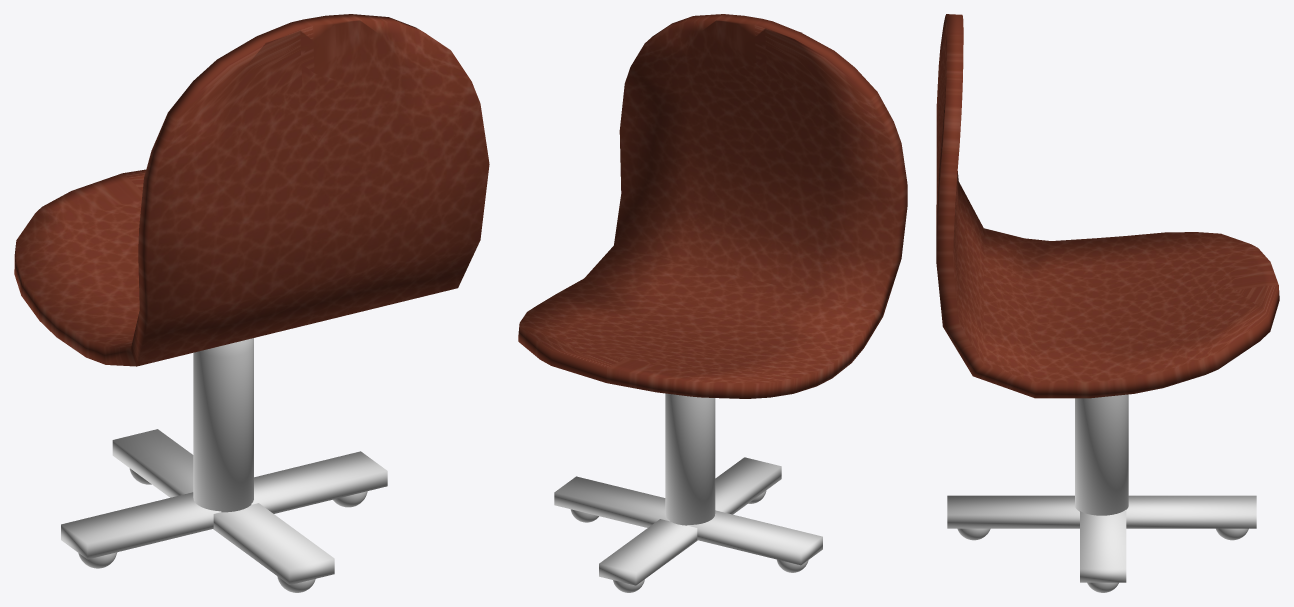
File: Office Chair.fbx
3 views of the same model, side by side, from view 1: azimuth 30°, elevation 25°; view 2: azimuth 150°, elevation 25°; view 3: azimuth 270°, elevation 25° (orthographic). The views are drawn at different scales.
Parts seen in each view (by area): view 1: Chair, Sphere.002, Stand, Sphere.001; view 2: Chair, Sphere.002, Stand, Sphere.001; view 3: Chair, Sphere.001, Stand, Sphere.002.
Boxes of the visible parts, bbox=[...] form: Chair: bbox=[14, 14, 489, 366]; Sphere.002: bbox=[61, 451, 387, 568]; Stand: bbox=[193, 338, 253, 512]; Sphere.001: bbox=[112, 429, 334, 592]; Chair: bbox=[518, 14, 907, 398]; Sphere.002: bbox=[554, 476, 822, 572]; Stand: bbox=[665, 393, 715, 525]; Sphere.001: bbox=[599, 457, 781, 592]; Chair: bbox=[936, 14, 1279, 398]; Sphere.001: bbox=[947, 495, 1256, 540]; Stand: bbox=[1075, 394, 1128, 515]; Sphere.002: bbox=[1080, 509, 1126, 592].
Size of the model in its own units: 146 by 235 by 145.
Materials: 2 (1 with a texture image).
